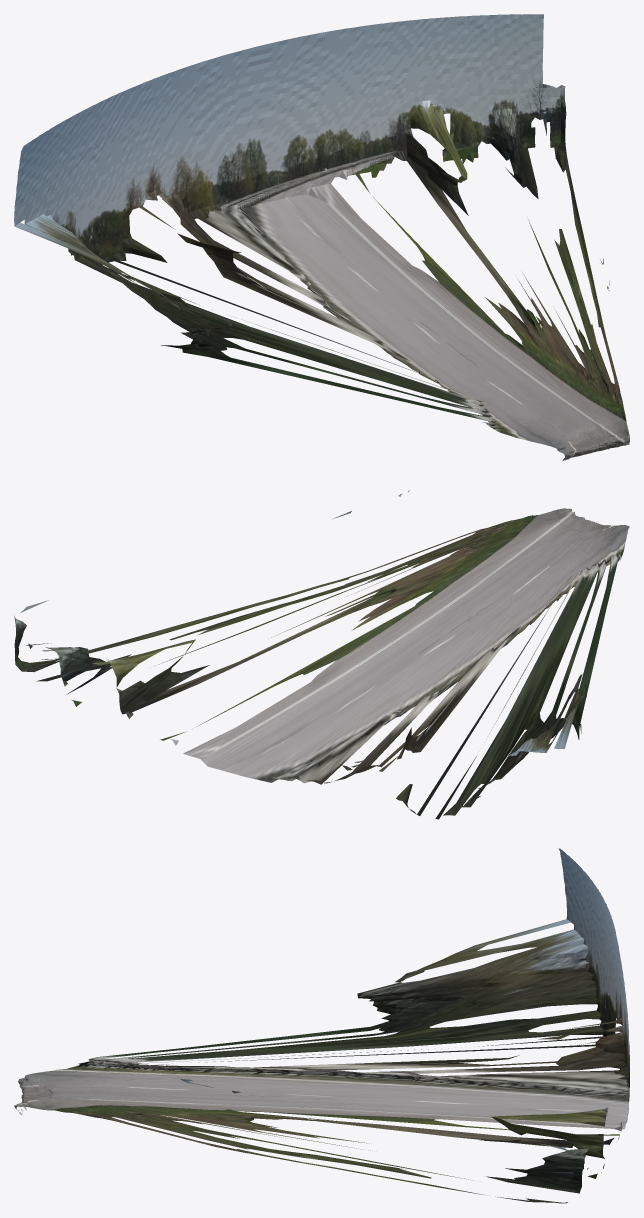
3 renders of one model, top to bottom at view 1: azimuth 30°, elevation 25°; view 2: azimuth 150°, elevation 25°; view 3: azimuth 270°, elevation 25°, orthographic. The views are drawn at different scales.
Visible parts, largest first — view 1: defaultobject; view 2: defaultobject; view 3: defaultobject.
Boxes of the visible parts, x1,y1,x2,y2 form: defaultobject: [14, 14, 629, 460]; defaultobject: [14, 490, 629, 819]; defaultobject: [14, 848, 629, 1203].
Bounding box in the file's own units: 41.06 × 12.37 × 44.67.
Materials: 1 (1 with a texture image).
